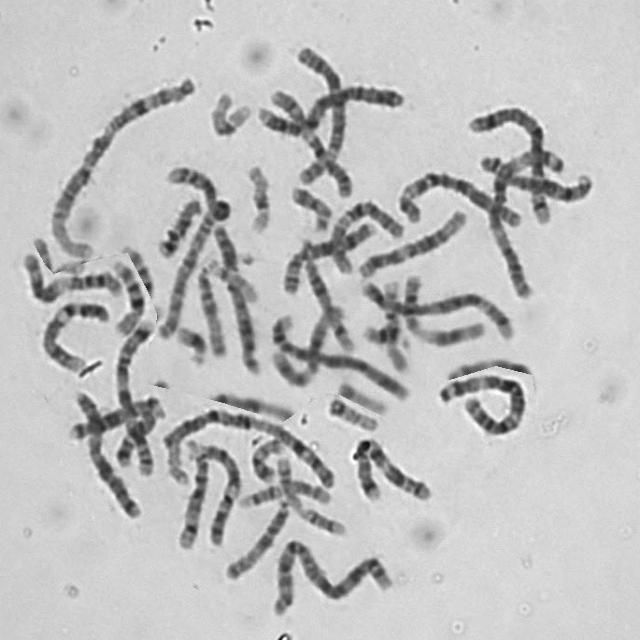A1: (42, 68, 200, 261), (154, 402, 339, 492)
A2: (150, 157, 236, 345), (263, 530, 395, 617)
A3: (480, 138, 569, 302), (432, 366, 523, 438)
B4: (264, 304, 412, 404), (250, 75, 406, 138)
B5: (459, 101, 562, 232), (358, 278, 512, 339)
C10: (276, 215, 378, 297), (323, 191, 408, 274)
C11: (395, 269, 497, 347), (14, 244, 124, 305)
C12: (350, 200, 470, 279), (266, 297, 352, 389)
C6: (289, 36, 350, 198), (391, 163, 526, 231)
C7: (108, 312, 160, 476), (347, 427, 442, 505)
C8: (472, 146, 595, 205), (267, 90, 341, 174)
C9: (34, 292, 113, 374), (190, 435, 244, 547)
D13: (64, 389, 167, 443), (116, 391, 165, 470)
D14: (295, 245, 357, 353), (171, 438, 210, 552)
D15: (218, 493, 293, 583), (189, 255, 228, 359)
E16: (106, 248, 148, 337), (386, 276, 419, 377)
E17: (268, 448, 348, 538), (234, 472, 336, 510)
E18: (152, 191, 204, 259), (319, 153, 356, 205)
F19: (203, 83, 254, 139), (240, 156, 274, 235)
F20: (284, 178, 335, 233), (244, 430, 288, 484)
G21: (170, 318, 209, 368), (355, 320, 402, 348)
G22: (202, 251, 260, 303), (321, 389, 381, 433)
X: (66, 383, 145, 522)
Y: (212, 225, 241, 275)
